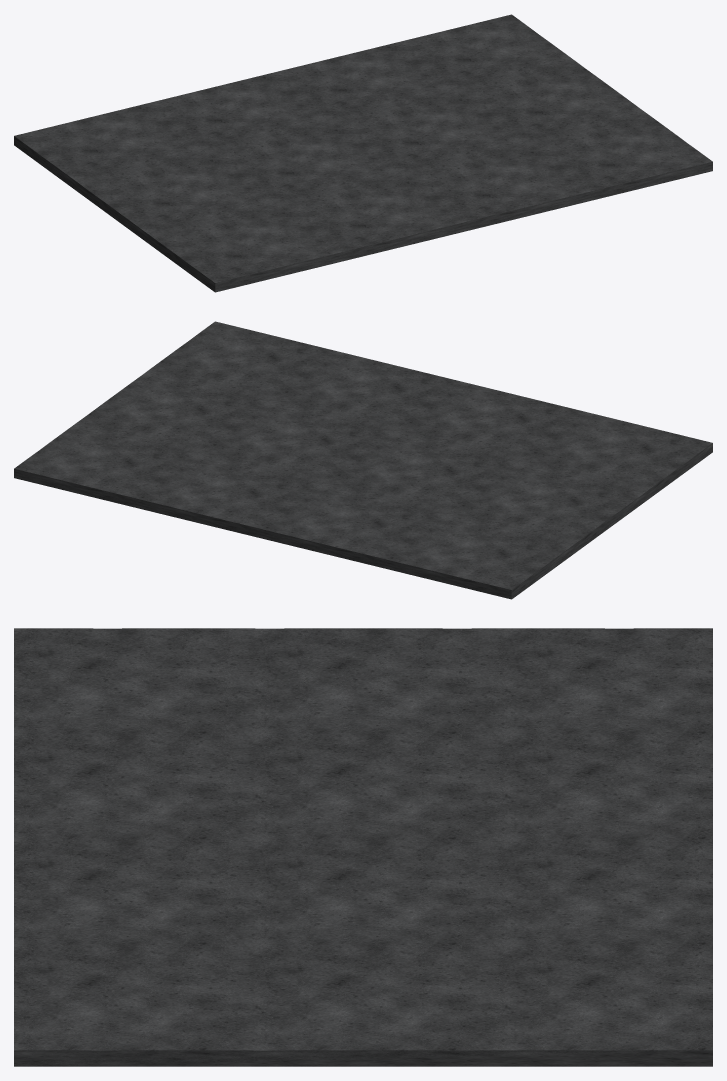
The model's file is PROJECT_Z_Road_Asphalt_Surface_10m.glb.
3 renders of one model, top to bottom at view 1: azimuth 30°, elevation 25°; view 2: azimuth 150°, elevation 25°; view 3: azimuth 270°, elevation 25°, orthographic. The views are drawn at different scales.
Visible parts, largest first — view 1: SM_PZ_Asphalt_Roadbed_7m; view 2: SM_PZ_Asphalt_Roadbed_7m; view 3: SM_PZ_Asphalt_Roadbed_7m.
Boxes of the visible parts, left/top/right/bottom form: SM_PZ_Asphalt_Roadbed_7m: left=14, top=14, right=712, bottom=292; SM_PZ_Asphalt_Roadbed_7m: left=14, top=321, right=712, bottom=599; SM_PZ_Asphalt_Roadbed_7m: left=14, top=628, right=712, bottom=1066.
Size of the model in its own units: 10 by 0.18 by 7.
Materials: 1 (1 with a texture image).
